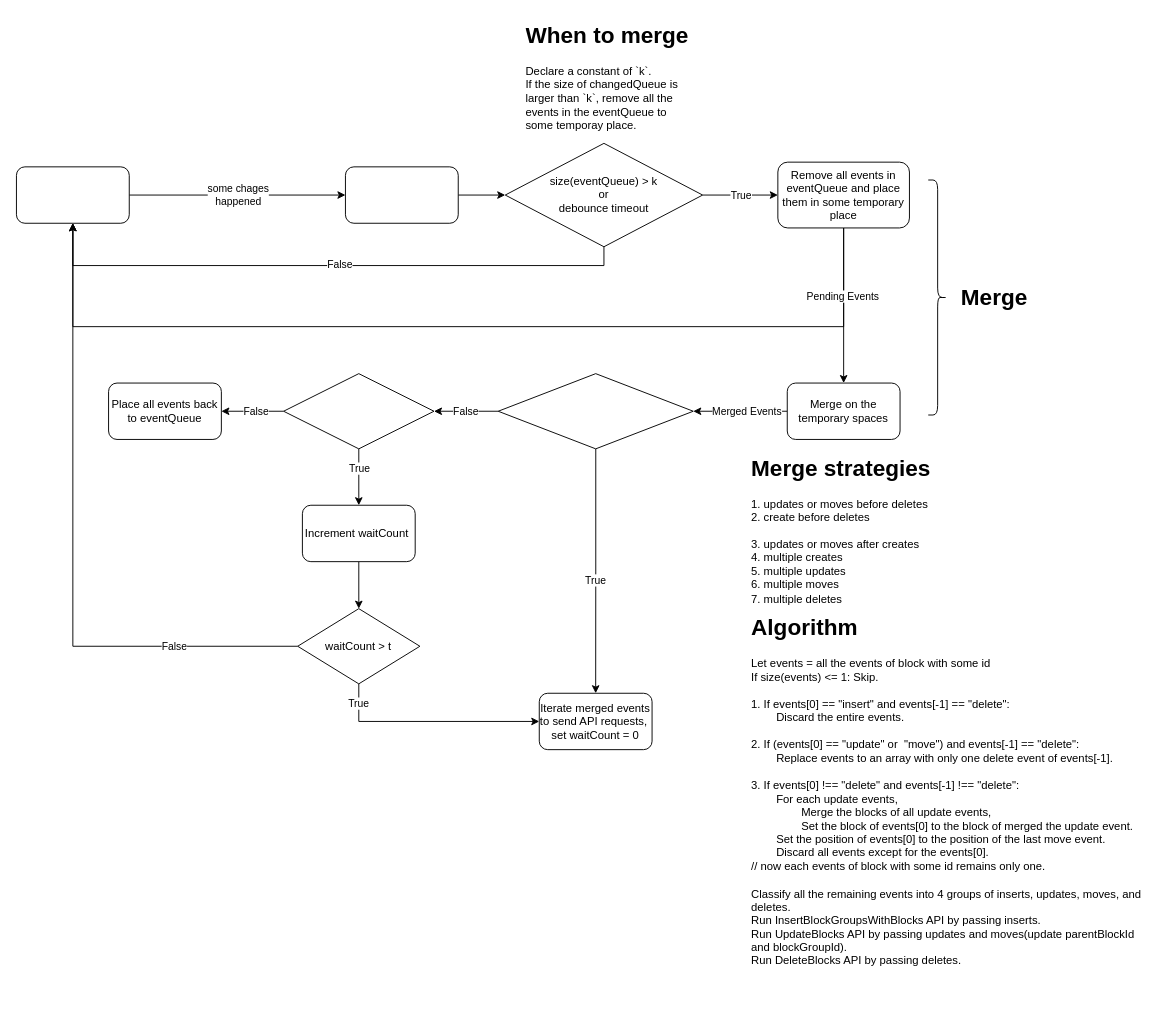
Image size: 1170x1012. Some labels were removed from this diagram. The shapes that lost their labels are listed below. From the top down, each one's centre as x and y in pixels, then its label:
At pixel 72 194: "Listen and serve block events".
At pixel 401 194: "Append changes into the eventQueue".
At pixel 358 411: "size(eventQueue) == 0".
At pixel 595 411: "size(merged events) > h".
